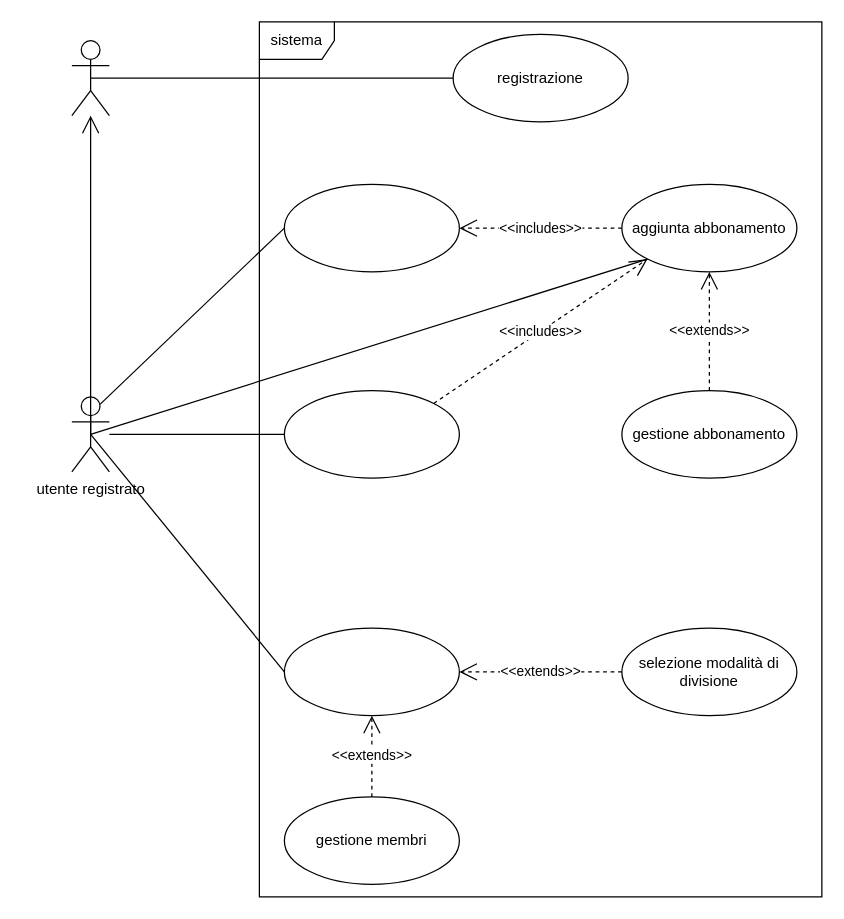
The diagram is 844 pixels wide and 919 high, and some of its shapes have lost their labels. Each missing label, with the box of its shape:
Accesso: (283, 183, 459, 272)
creazione gruppo: (283, 627, 459, 716)
utente non registrato: (71, 39, 109, 116)
visualizzazione storico finanziario: (283, 389, 459, 478)
